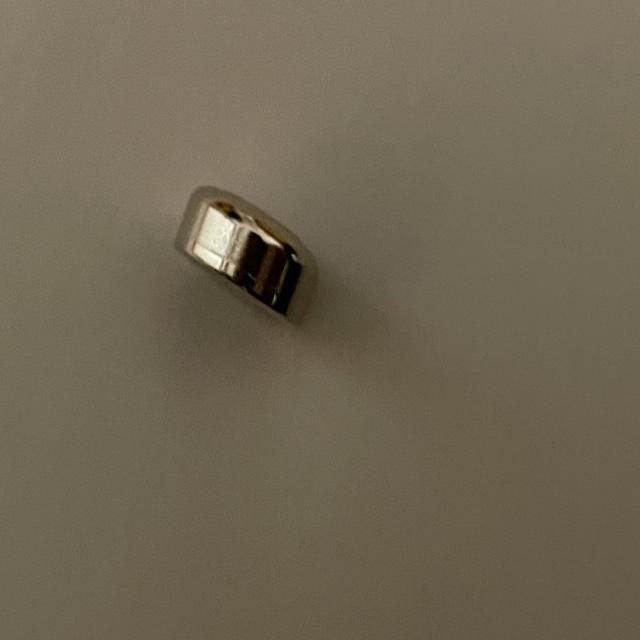COIN: (174, 185, 304, 322)
